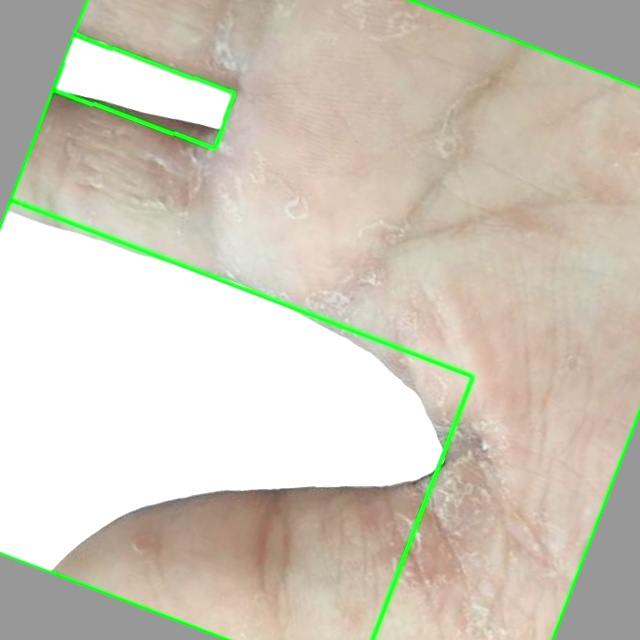Scabies: (0, 0, 639, 639), (0, 200, 473, 639), (52, 33, 234, 147)
